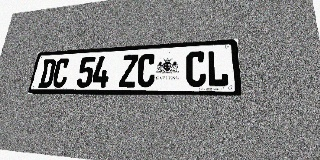4: (91, 56, 111, 88)
5: (76, 57, 96, 88)
C: (186, 51, 206, 87), (136, 53, 156, 87), (51, 58, 70, 88)
D: (38, 59, 57, 88)
L: (207, 50, 229, 87)
Z: (119, 54, 139, 87)
